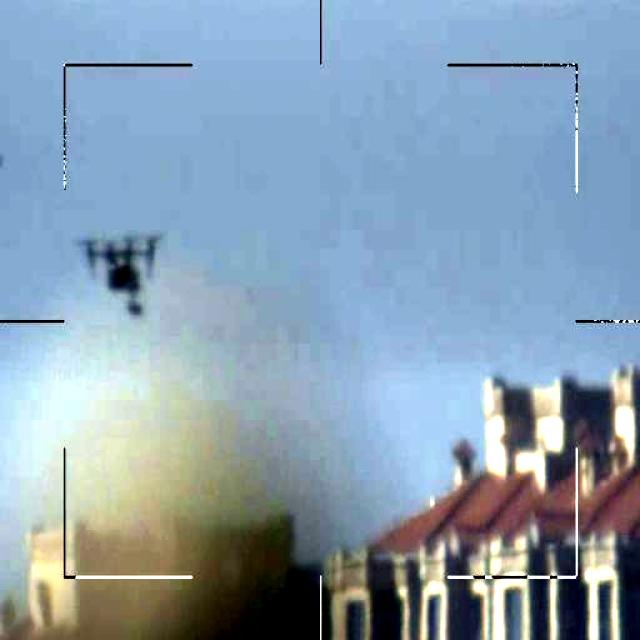bird: (76, 226, 175, 324)
